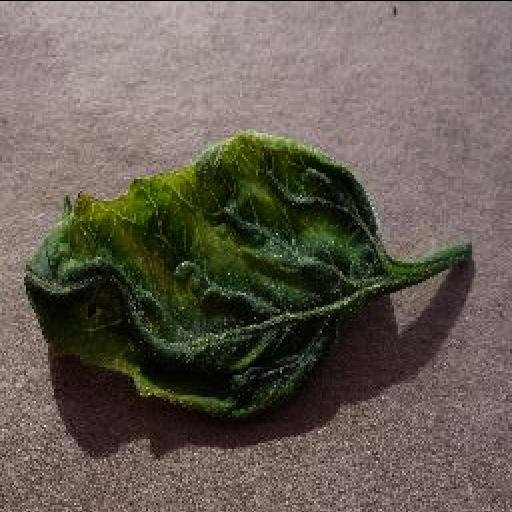disease_tomato: (22, 132, 392, 416)
